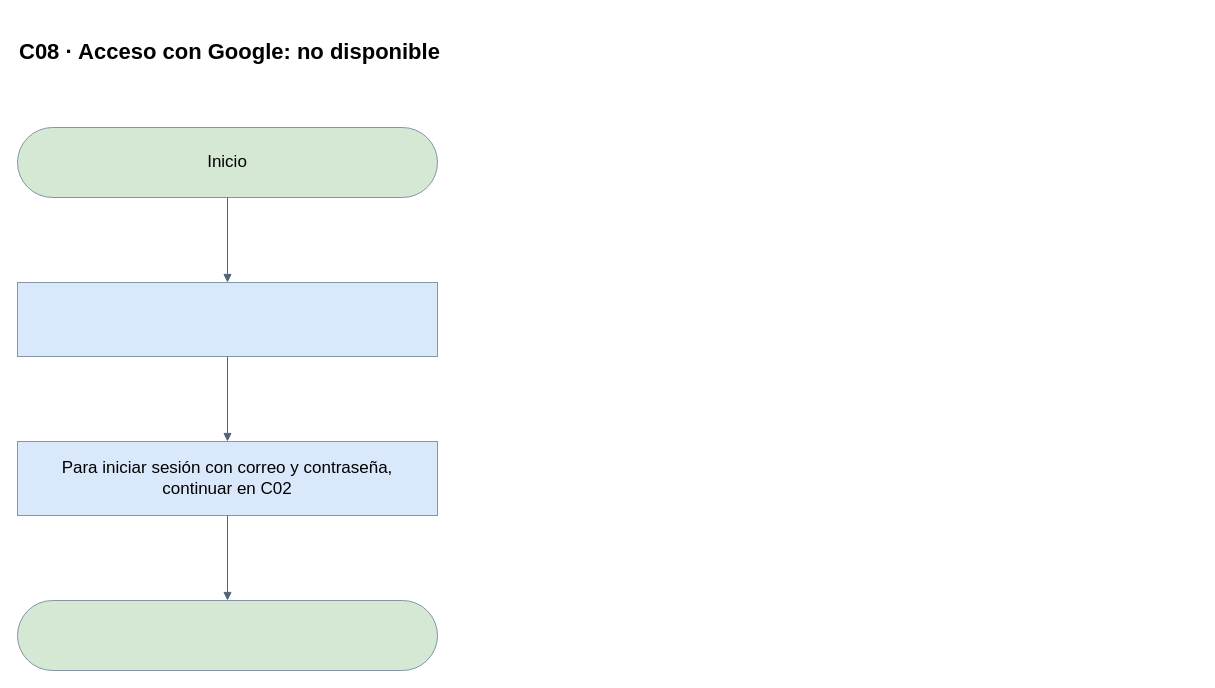
This 1215x688 diagram has some shape labels left out. Here are the shapes that lost their labels. From the top down, the box of each, then its label:
(16, 282, 438, 356): El acceso con Google no está disponible por el momento
(16, 600, 438, 670): Fin
